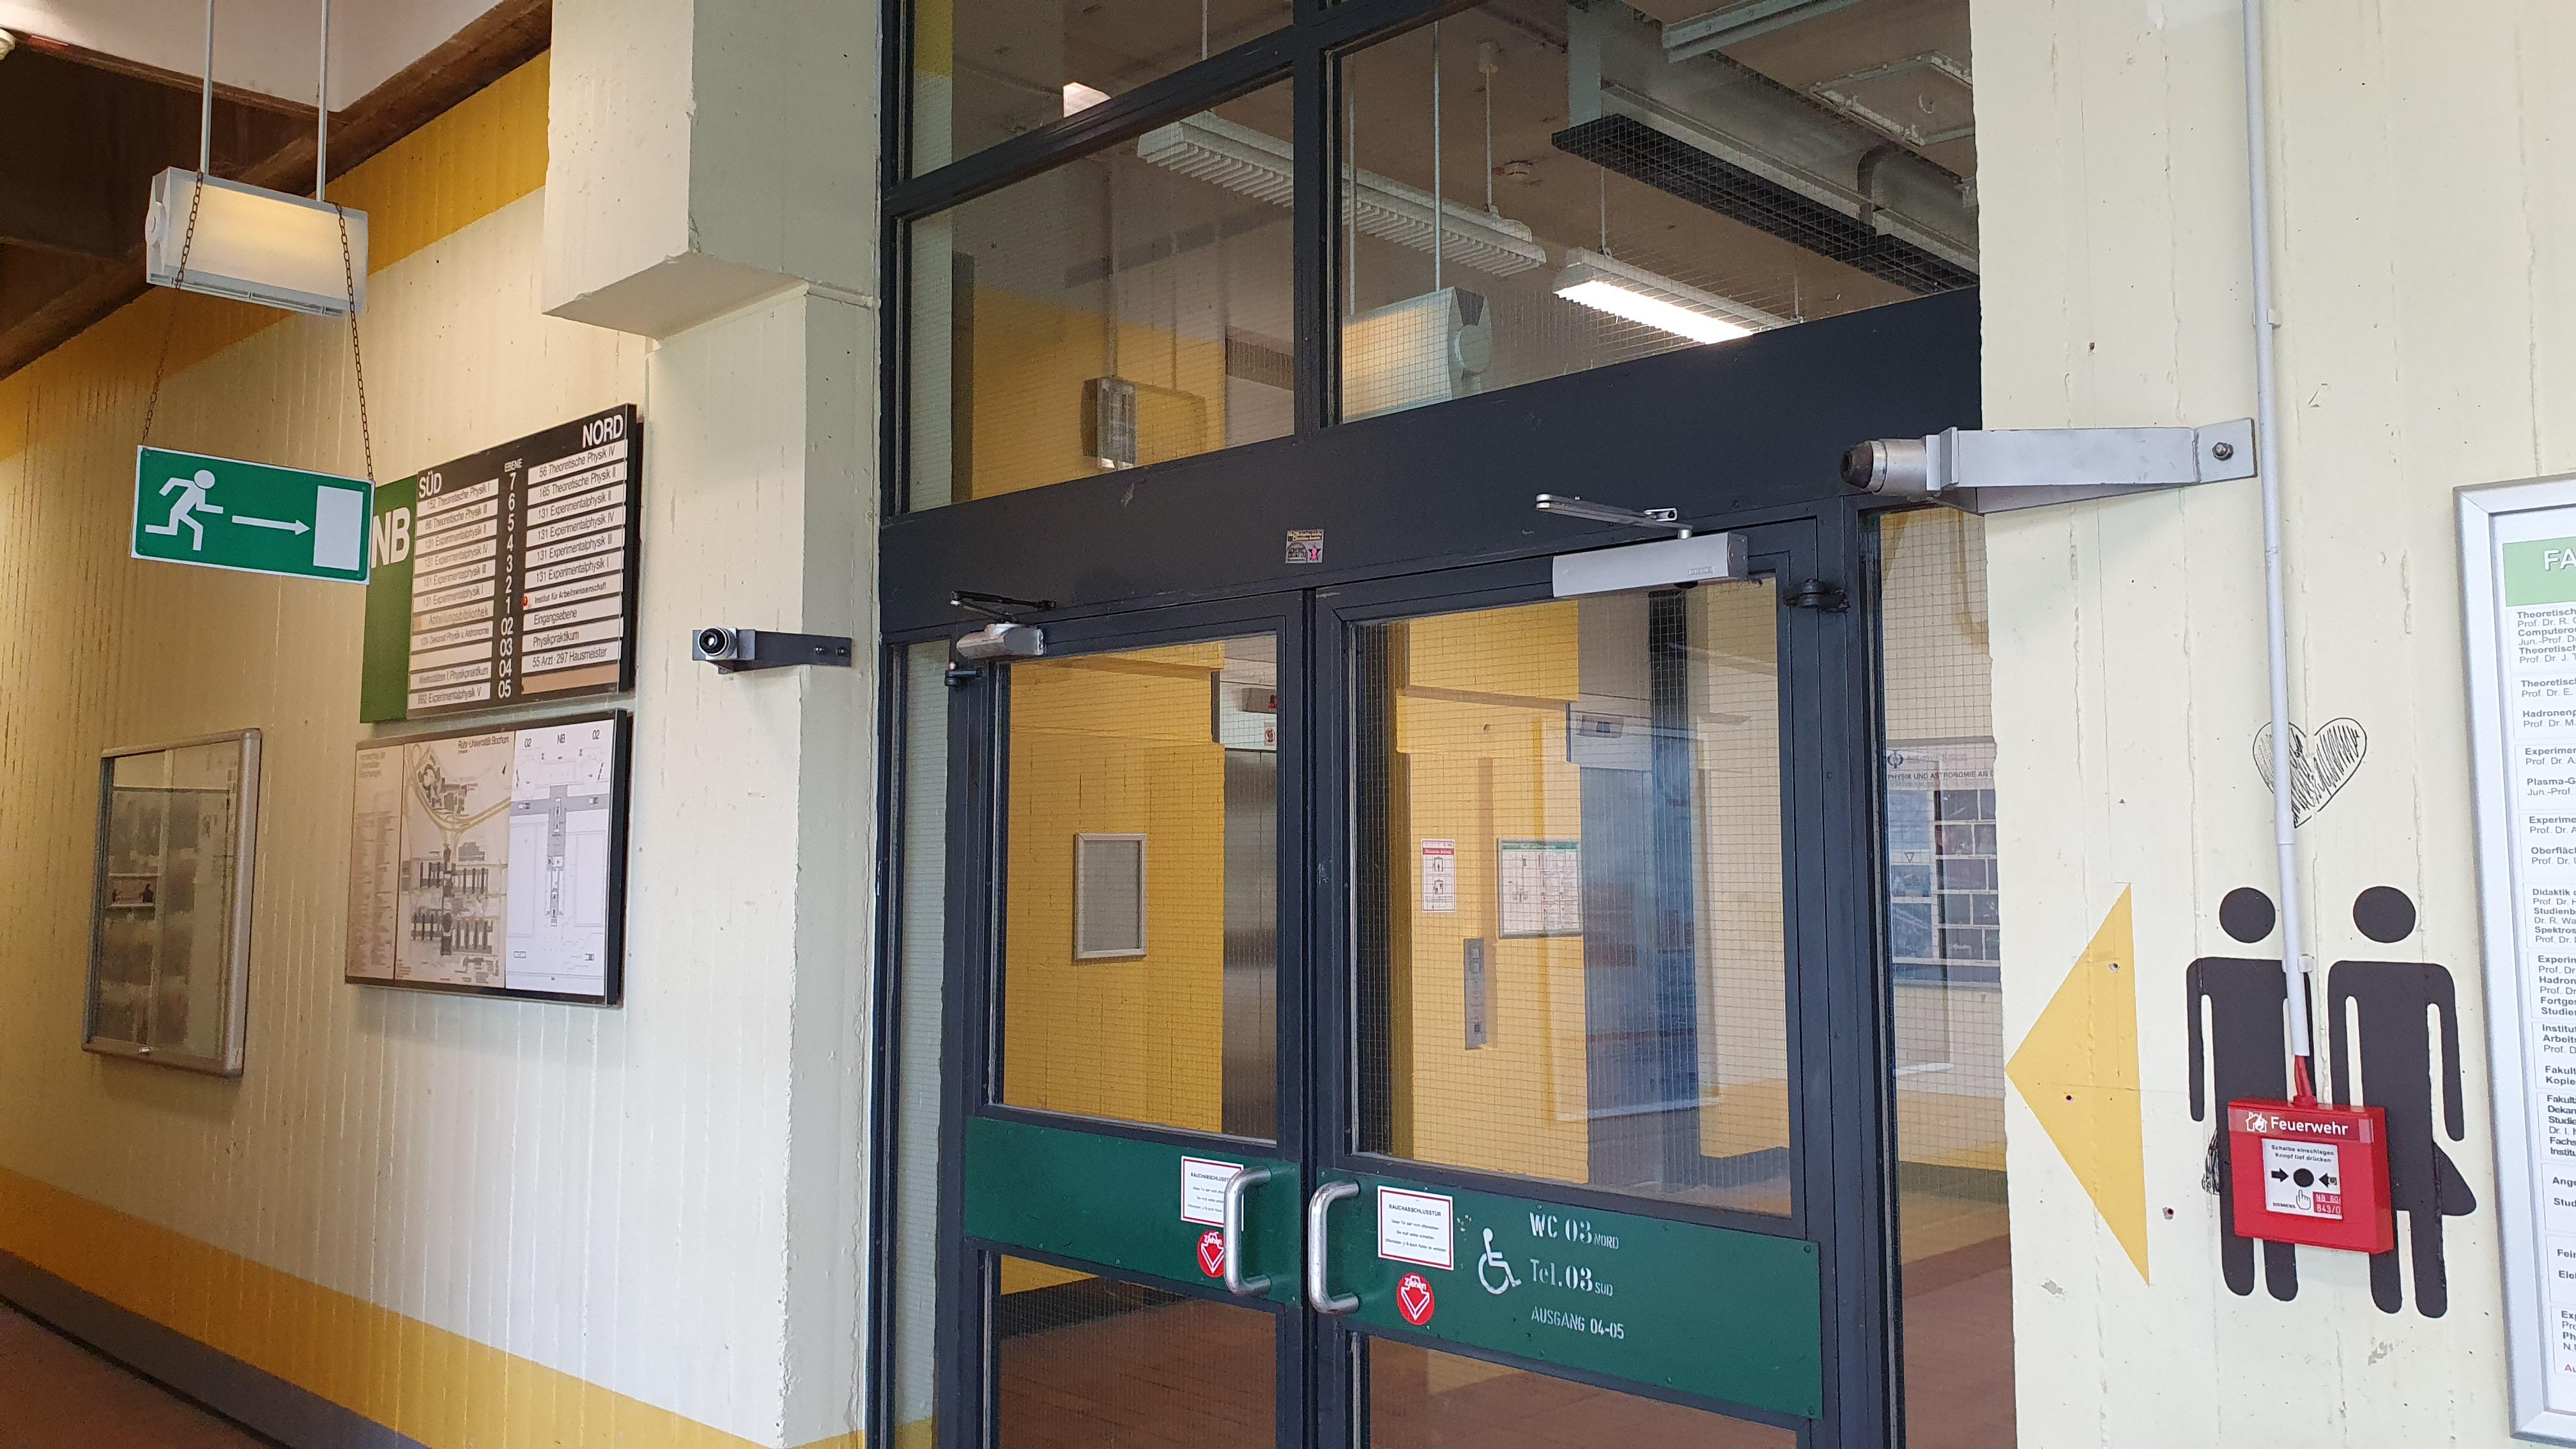call_point: (2226, 1097, 2396, 1254)
